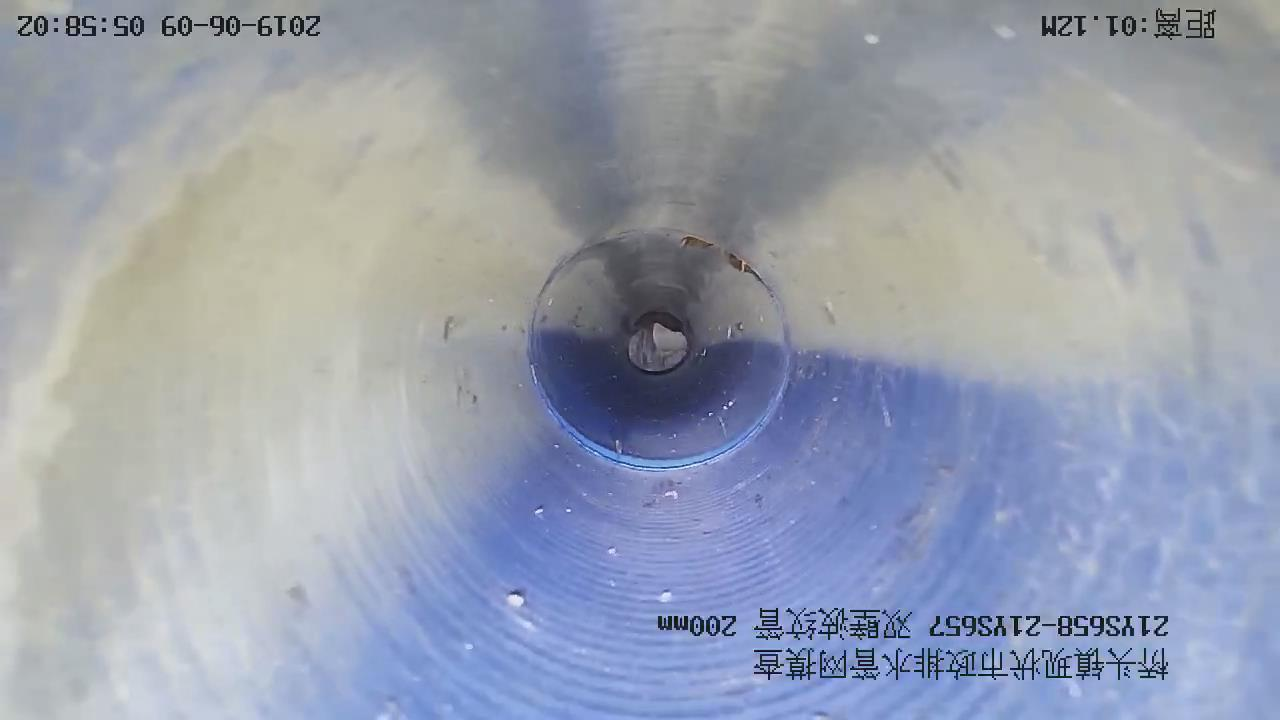CKTJ: (526, 242, 793, 473)
